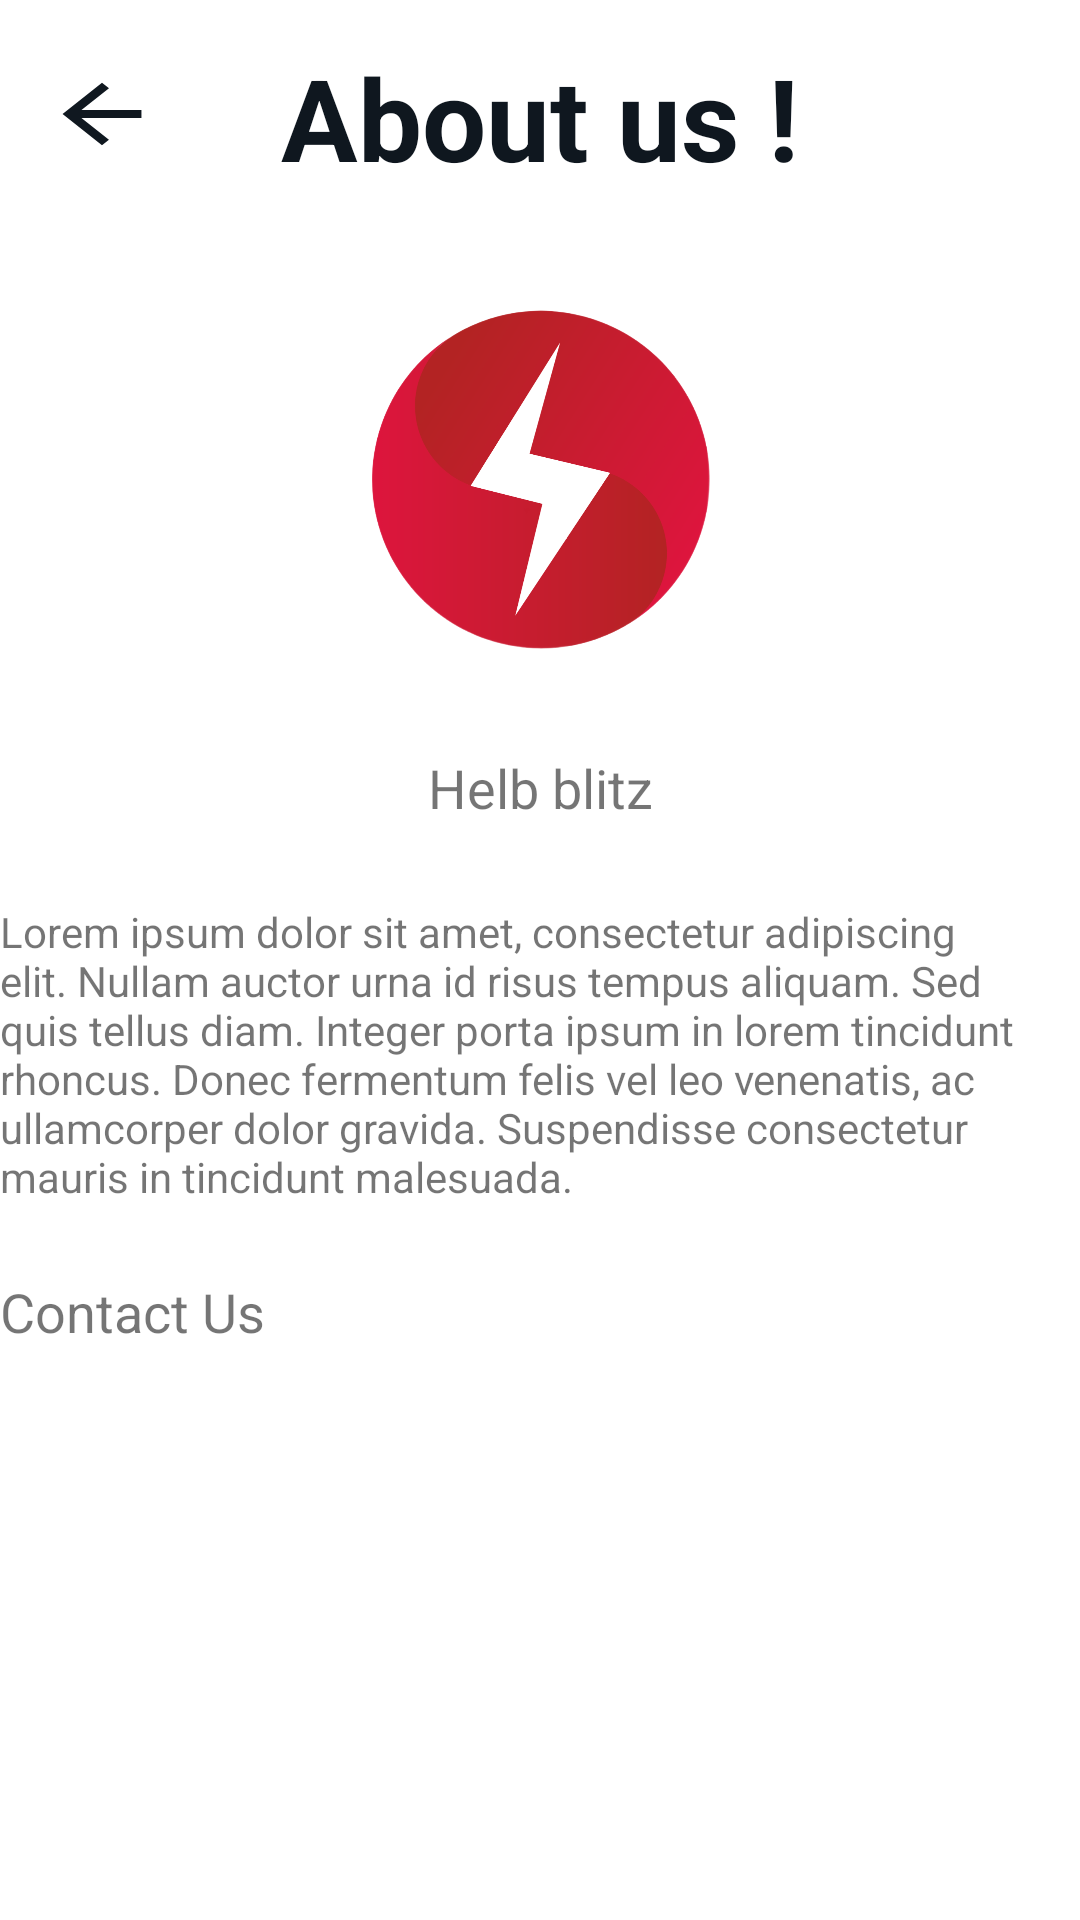

Icon click points for this 1080w x 1920h phone screenshot, format (x=x, y=y):
back button: (x=102, y=114)
